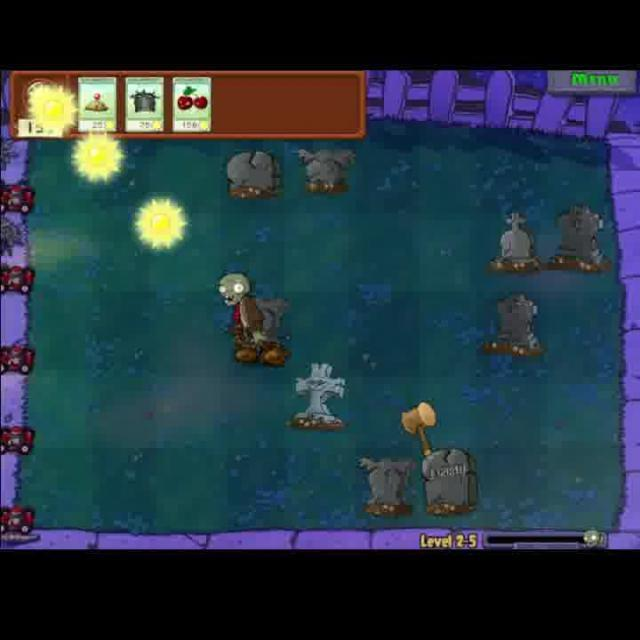sunshine: (128, 194, 190, 259), (70, 134, 125, 191)
zombies: (212, 269, 276, 371)
